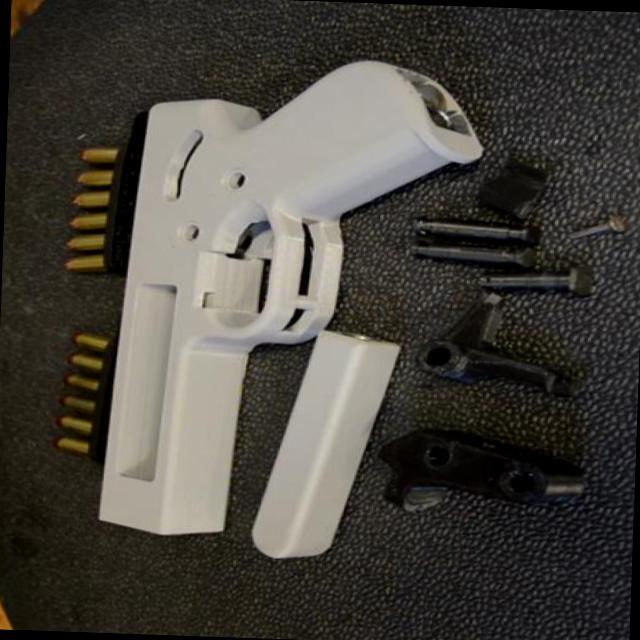handgun: (80, 49, 490, 554)
